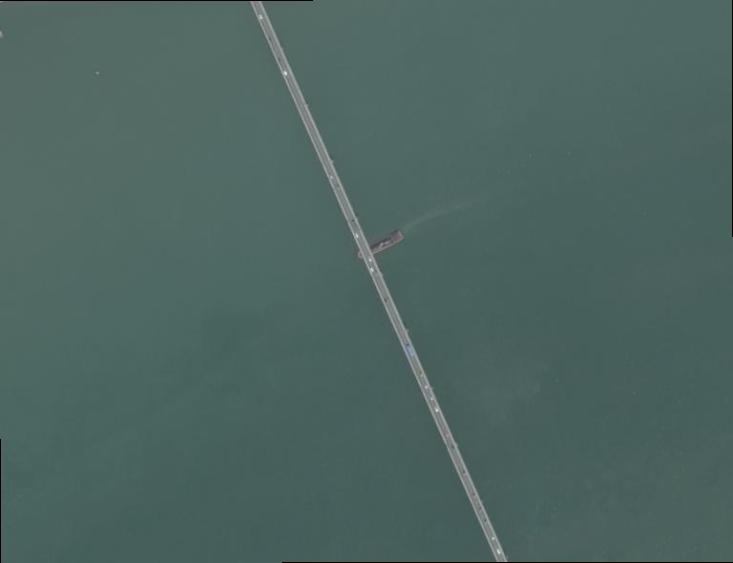ship: (358, 229, 406, 261)
